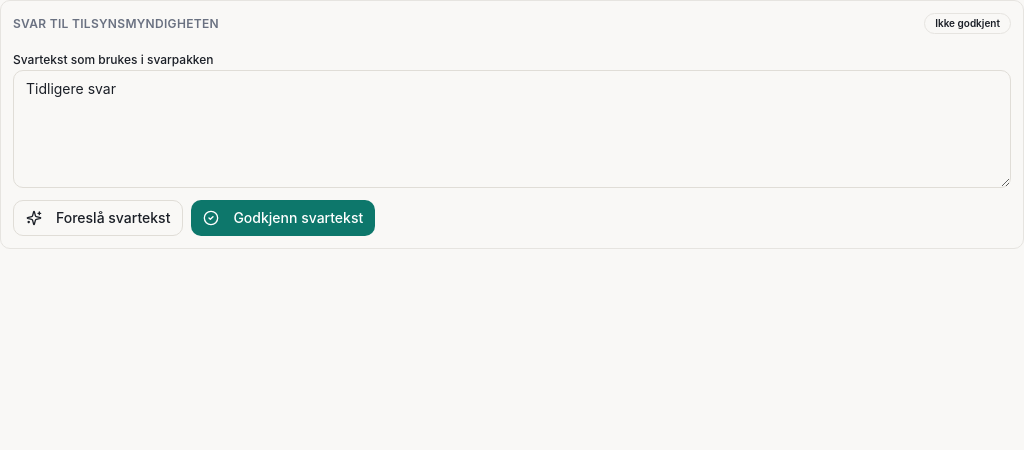
Test: Applying an inspection response suggestion › keeps the suggestion and original answer on error and permits retry
The image size is (1024, 450).
Step 1. Click the button "Foreslå svartekst" → click(98, 218), box [13, 200, 183, 236]
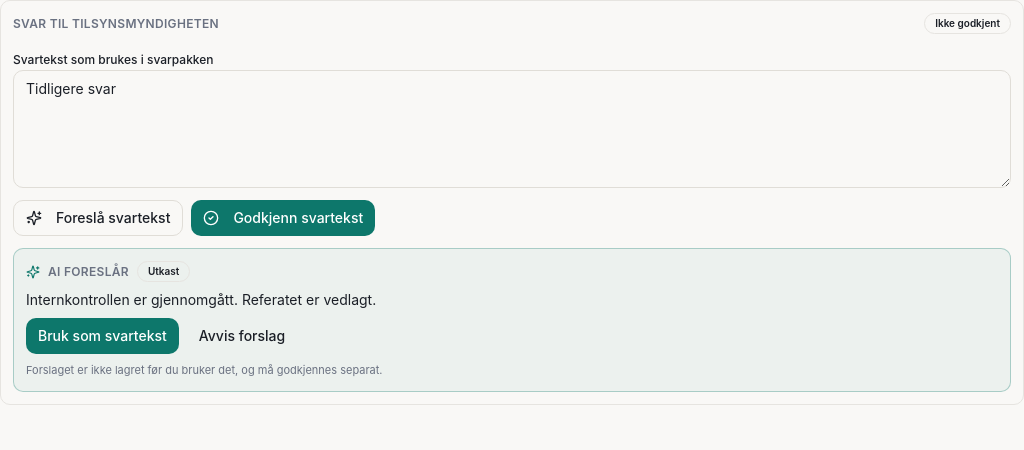
Result: the button "Bruk som svartekst" is shown
Step 2. Click the button "Bruk som svartekst" → click(102, 336), box [26, 318, 179, 354]
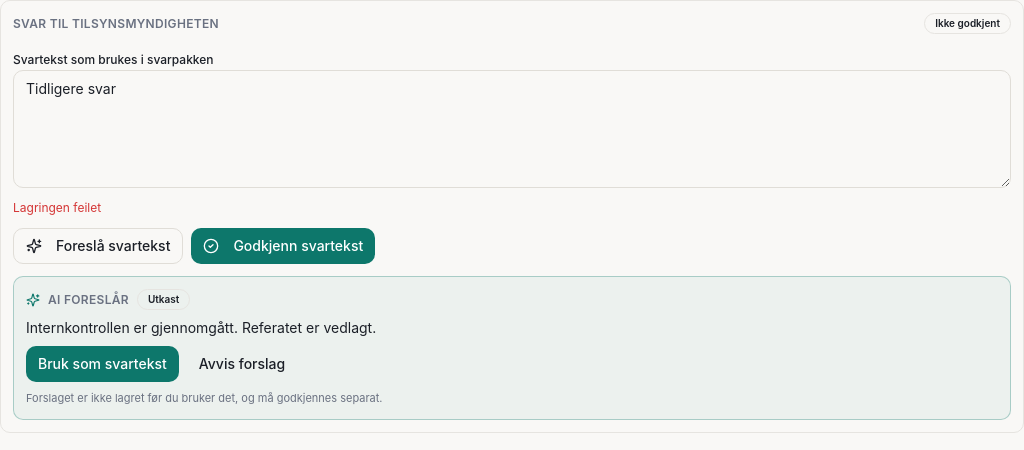
Expected: the text box holds "Tidligere svar", [13, 70, 1011, 188]
Result: the message "Lagringen feilet" is shown at [13, 200, 101, 215]
Step 3. Click the button "Bruk som svartekst" → click(102, 364), box [26, 346, 179, 382]
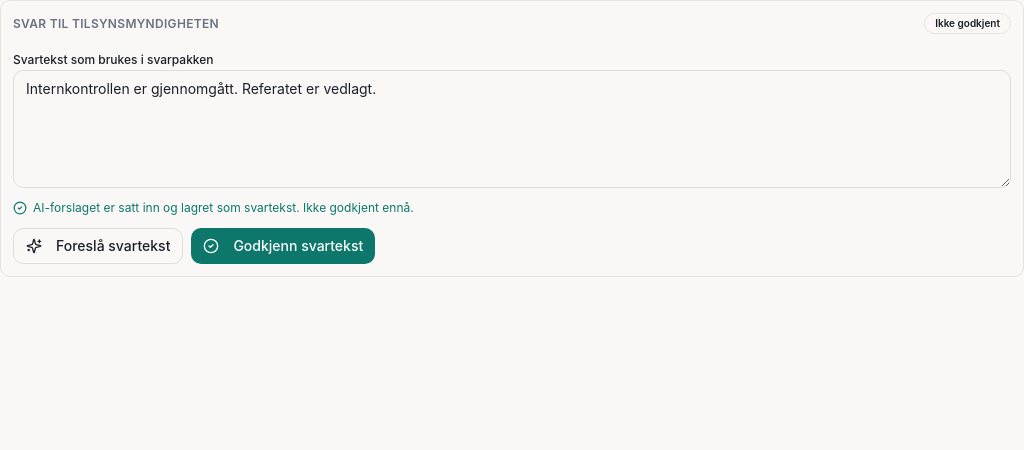
Result: the text box holds "Internkontrollen er gjennomgått. Referatet er vedlagt." at [13, 70, 1011, 188]
